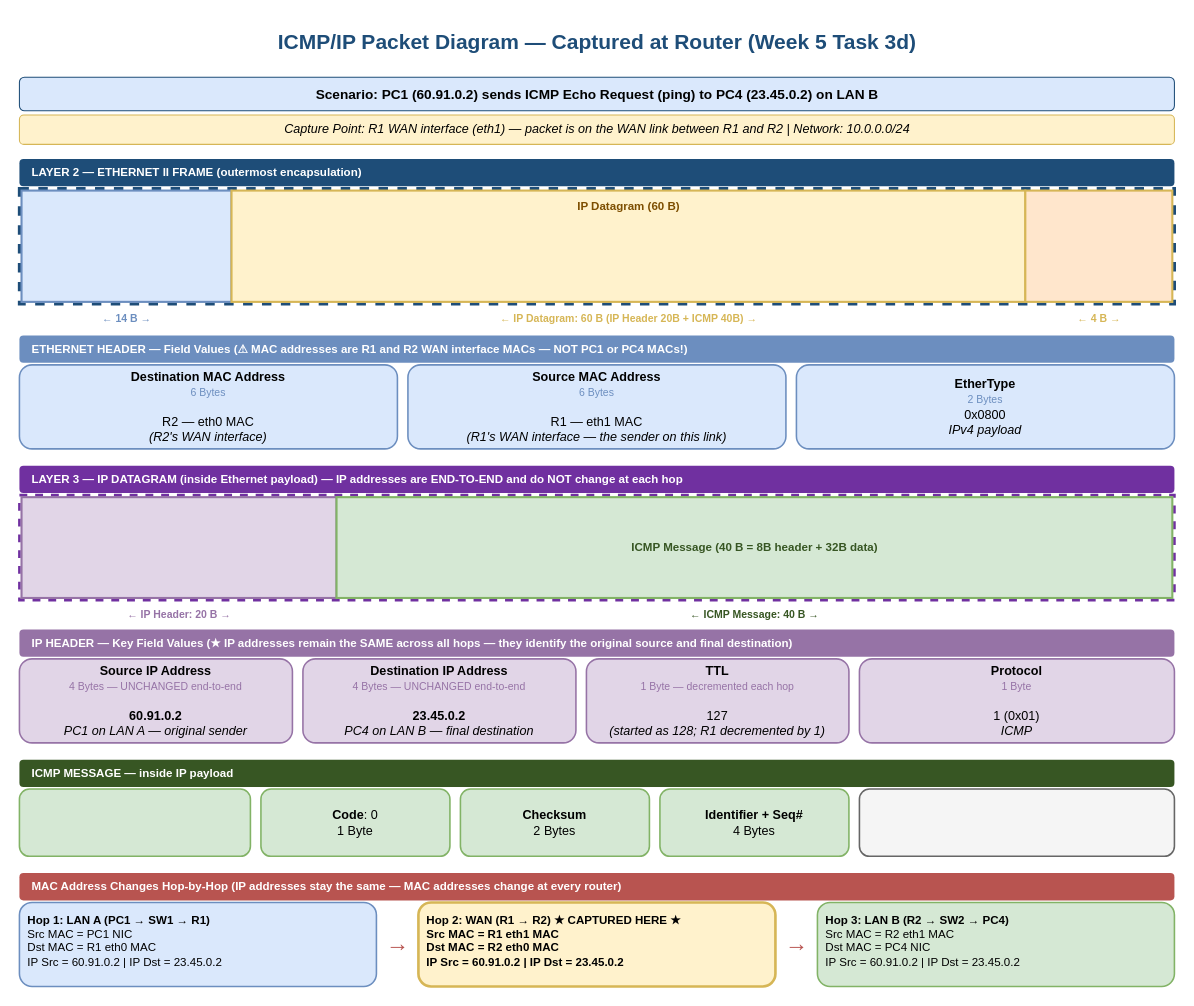
This 1194x1006 diagram has some shape labels left out. Here are the shapes that lost their labels. From the top down, the box of each, then its label:
(20, 189, 232, 302): Ethernet Header 14 Bytes
(1024, 189, 1173, 302): FCS 4 Bytes
(20, 496, 337, 598): IP Header 20 Bytes
(18, 788, 251, 857): Type : 8 (Echo Request) 1 Byte
(858, 788, 1175, 857): ICMP Data : 32 Bytes (Windows default payload)
